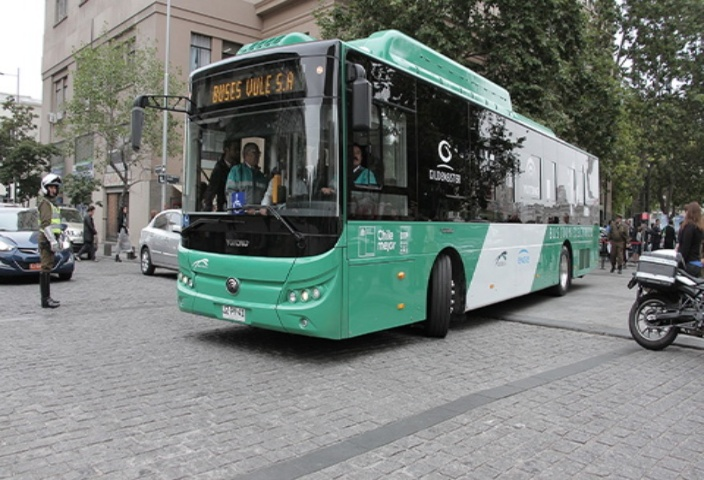bus: (146, 38, 607, 351)
car: (1, 197, 78, 284), (136, 193, 196, 278)
motorcycle: (626, 237, 704, 365)
